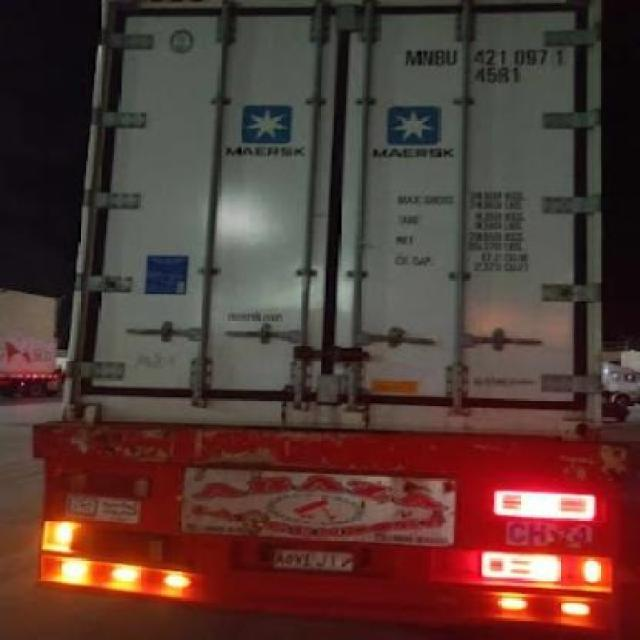ISO: (476, 64, 522, 86)
container_number: (412, 47, 558, 68)
